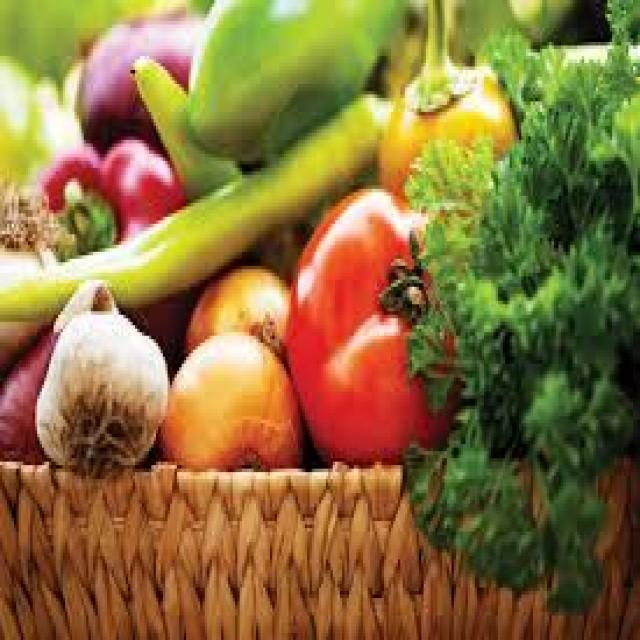organic waste: (400, 0, 638, 609), (0, 91, 391, 336), (279, 182, 463, 462), (181, 0, 412, 154), (0, 0, 179, 185), (377, 0, 516, 199), (30, 276, 168, 462), (74, 7, 202, 168), (163, 332, 300, 465), (133, 56, 240, 189), (32, 140, 182, 234), (184, 255, 286, 357), (0, 328, 77, 462), (426, 0, 584, 63)
